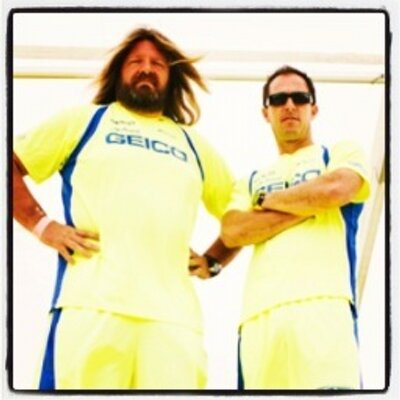geico: (101, 132, 194, 164)
